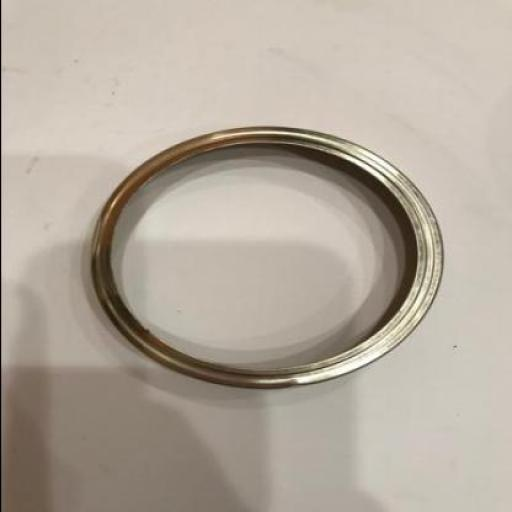metal: (89, 124, 445, 390)
